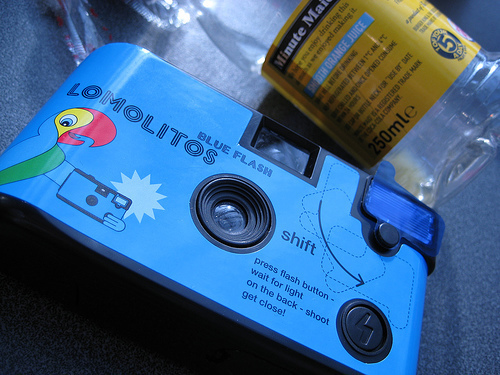litter: (186, 0, 499, 209)
